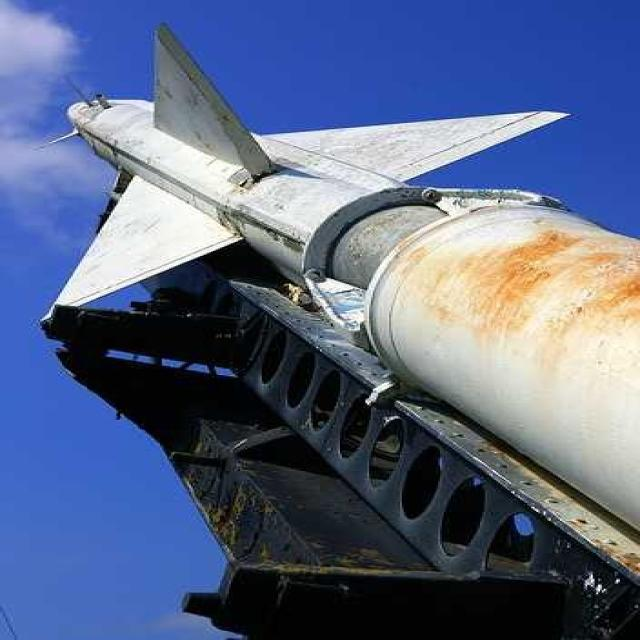missile: (38, 23, 560, 320)
